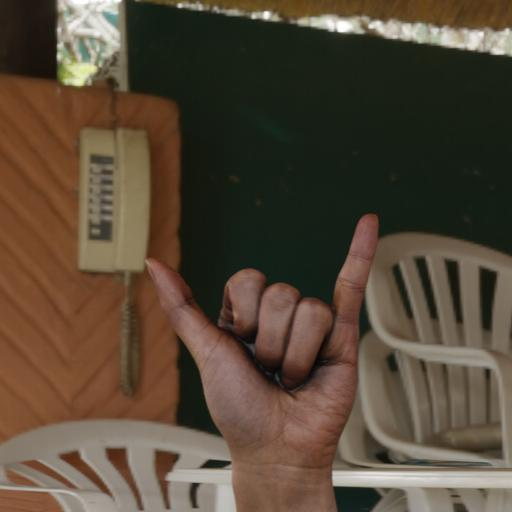Y: (138, 208, 383, 464)
